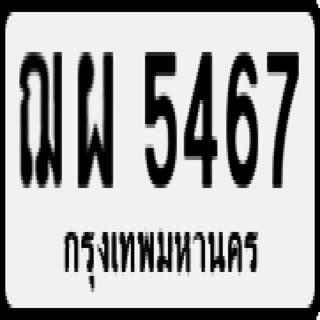A12: (13, 40, 68, 196)
A30: (68, 40, 122, 199)
N04: (180, 46, 222, 192)
N05: (135, 44, 177, 194)
N06: (225, 41, 264, 195)
N07: (261, 43, 306, 195)
P04: (58, 226, 262, 292)
